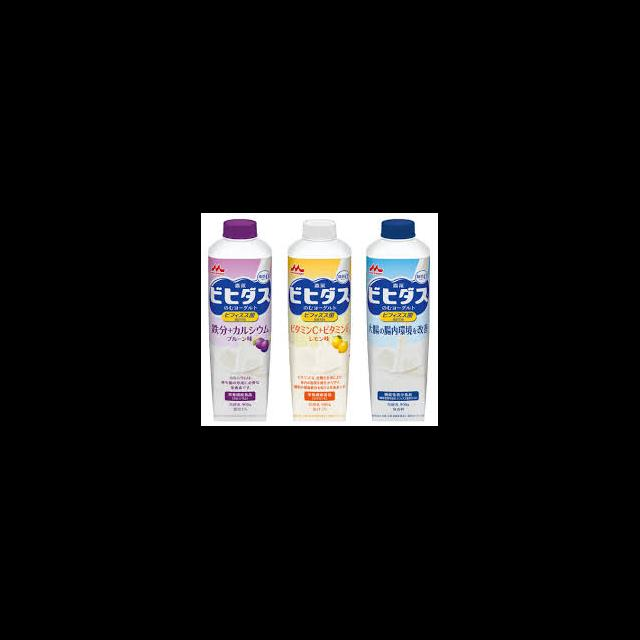plastic: (364, 218, 430, 420), (286, 220, 351, 420), (208, 218, 272, 420), (302, 218, 336, 242), (380, 218, 414, 240), (222, 220, 256, 240)
